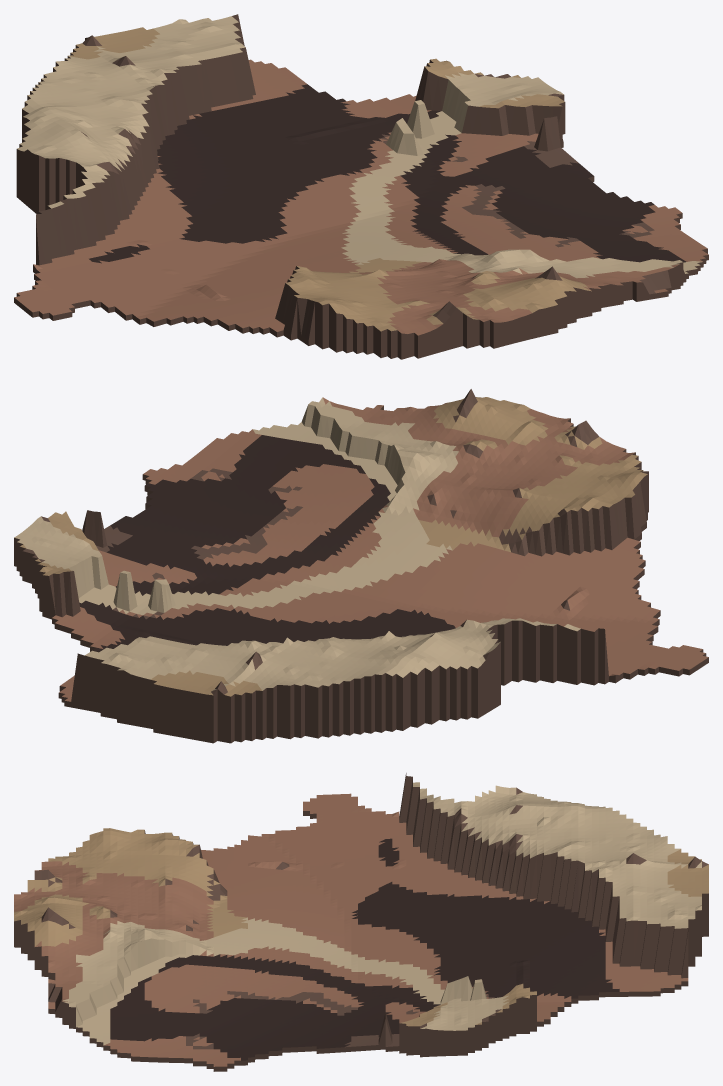
Rendered from space-base-terrain-9fab7d.glb.
The picture shows the model from 3 angles, top to bottom: view 1: azimuth 30°, elevation 25°; view 2: azimuth 150°, elevation 25°; view 3: azimuth 270°, elevation 25°; orthographic projection. The views are drawn at different scales.
Visible parts, largest first — view 1: regolith; view 2: regolith; view 3: regolith.
Part boxes in pixels (x1,y1,x2,y2): regolith: (14, 14, 708, 359); regolith: (14, 389, 708, 743); regolith: (14, 773, 708, 1071).
Bounding box in the file's own units: 46 × 5.75 × 50.5.
